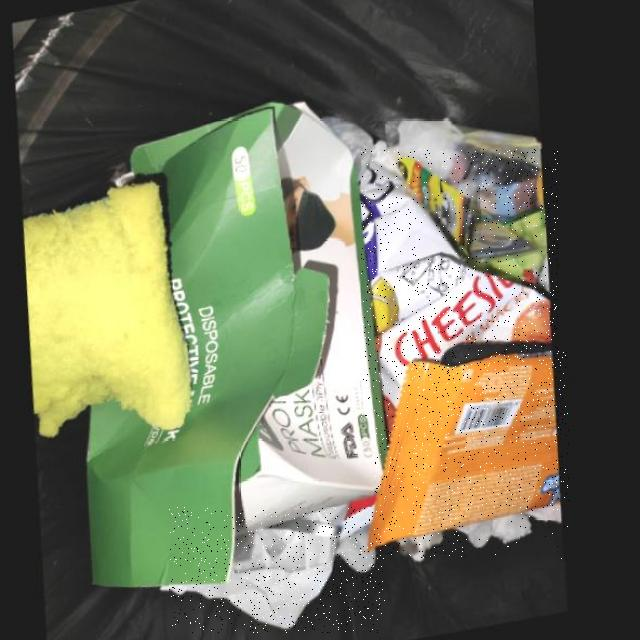paper: (93, 107, 392, 592), (169, 508, 385, 633), (468, 511, 571, 559)
wrapper: (362, 149, 558, 418), (375, 349, 569, 558), (461, 209, 555, 308), (401, 162, 477, 265)
